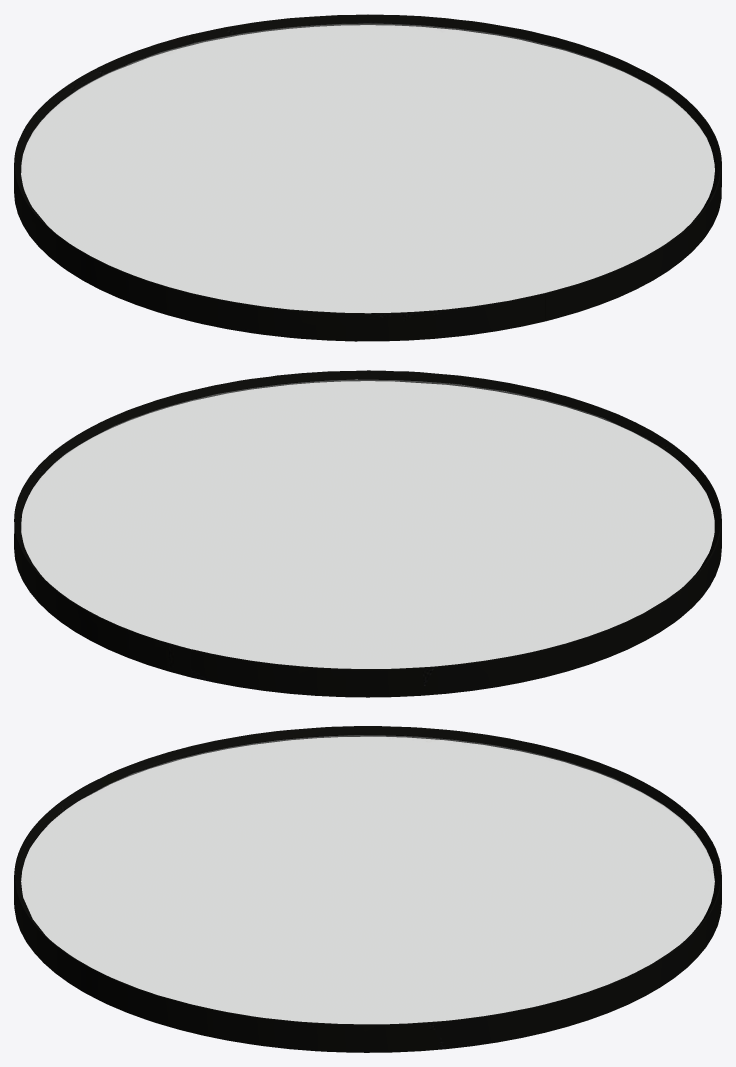
File: lindbyn_lustro_70590448.glb
3 renders of one model, top to bottom at view 1: azimuth 30°, elevation 25°; view 2: azimuth 150°, elevation 25°; view 3: azimuth 270°, elevation 25°, orthographic.
Parts seen in each view (by area): view 1: lindbyn_lustro_70590448; view 2: lindbyn_lustro_70590448; view 3: lindbyn_lustro_70590448.
Boxes of the visible parts, bbox=[...] form: lindbyn_lustro_70590448: bbox=[14, 14, 721, 341]; lindbyn_lustro_70590448: bbox=[14, 370, 721, 697]; lindbyn_lustro_70590448: bbox=[14, 726, 721, 1052].
Size of the model in its own units: 0.4998 by 0.0219 by 0.5001.
2 materials, 2 textured.
